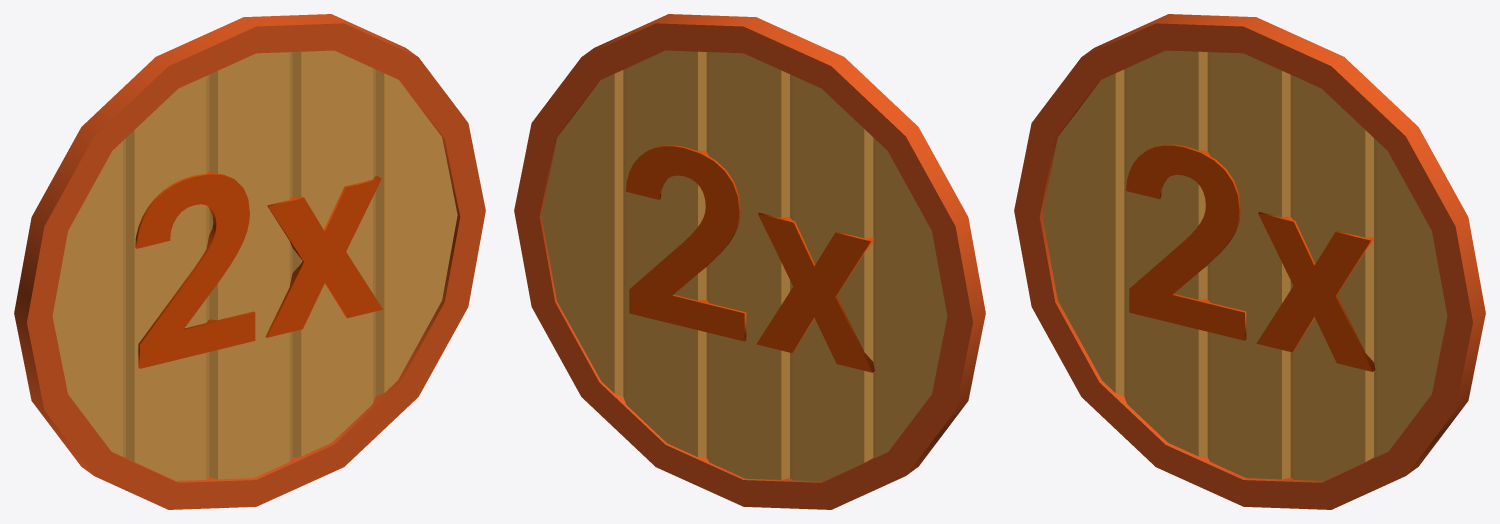
Rendered from shield2.fbx.
3 renders of one model, left to right at view 1: azimuth 30°, elevation 25°; view 2: azimuth 150°, elevation 25°; view 3: azimuth 330°, elevation 25°, orthographic.
Parts seen in each view (by area): view 1: shield; view 2: shield; view 3: shield.
Part boxes in pixels (bbox=[...]): shield: bbox=[14, 14, 485, 509]; shield: bbox=[514, 14, 985, 509]; shield: bbox=[1014, 14, 1485, 509].
Size of the model in its own units: 395 by 395 by 19.08.
